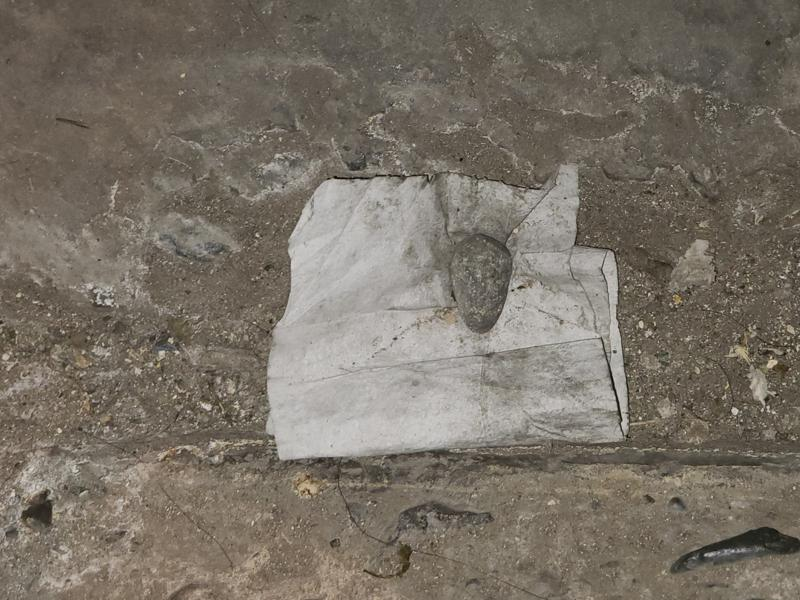papel: (267, 166, 630, 462)
